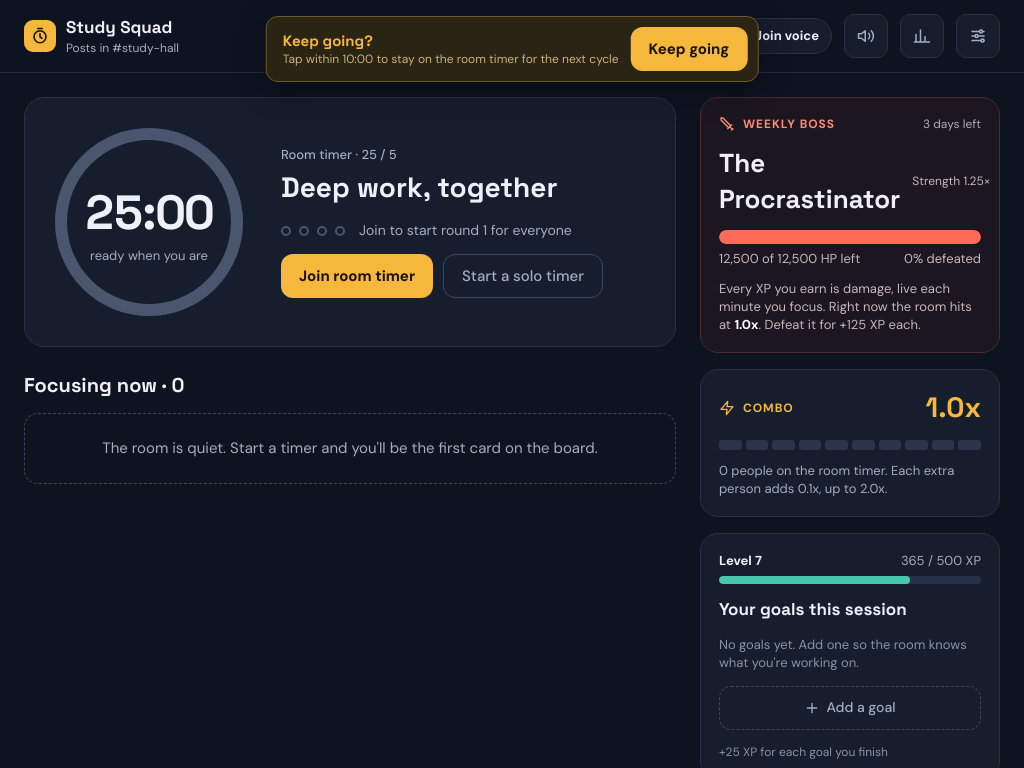
Test: Study Squad app › asks 'Keep going?' in the long break and hides it once tapped
This screenshot has width=1024, height=768.
Click the button "Keep going" at (689, 49), box [631,27,747,71]
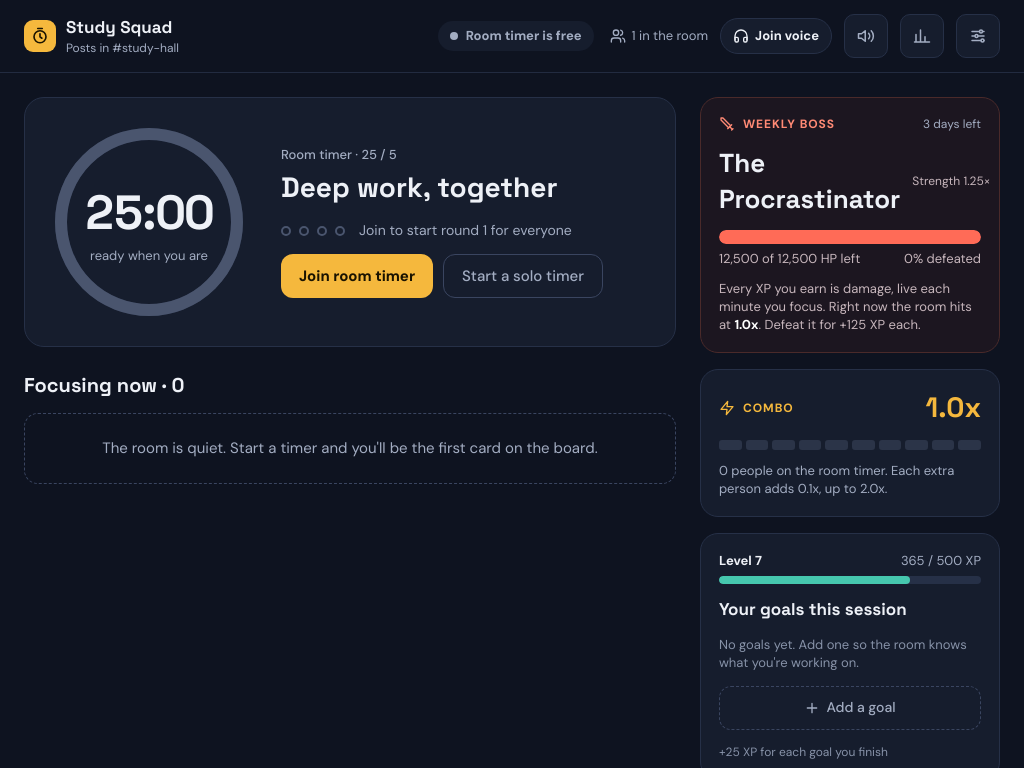
Expected: the dialog is gone
